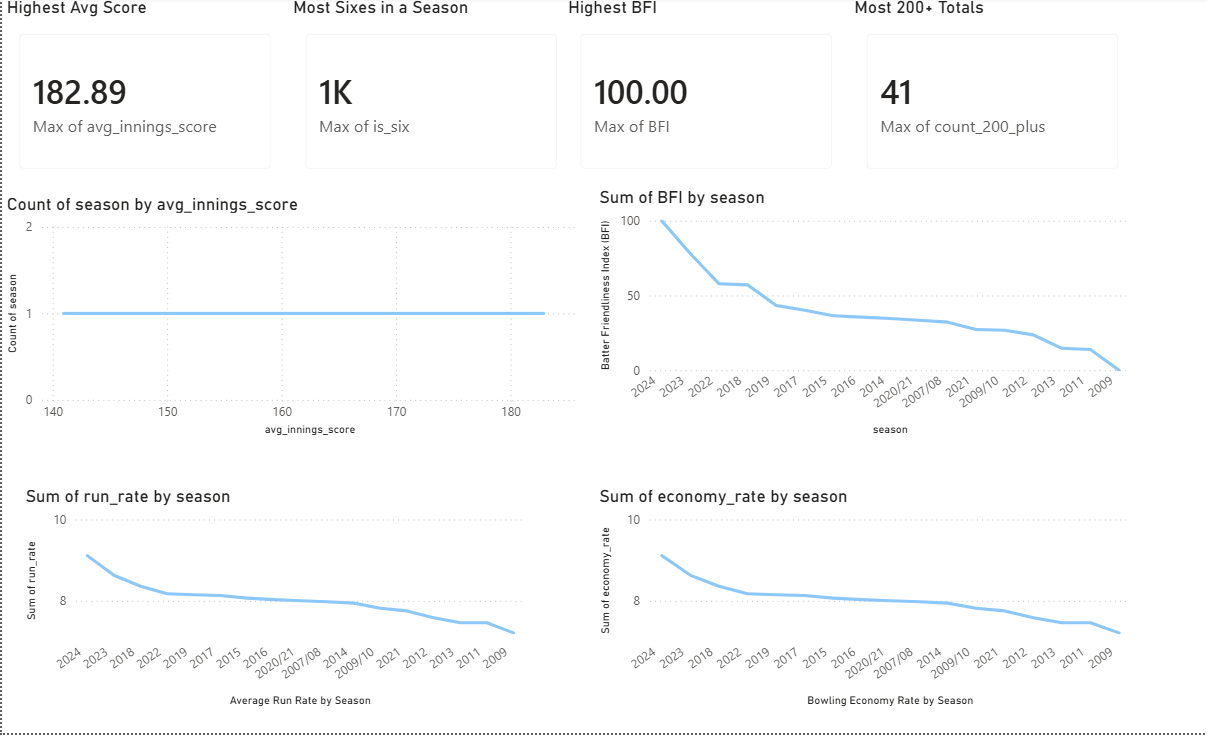

This screenshot's page, from the dashboard's own definition file:
{"tool":"powerbi","page":{"name":"Page 1","canvas":[1280,720],"ordinal":0},"visuals":[{"type":"lineChart","fields":{"Category":["bfi_final.season"],"Y":["Sum(bfi_final.BFI)"]},"box":[579.6,185.9,481.8,248.2],"z":1},{"type":"lineChart","fields":{"Category":["avg_score_by_season.avg_innings_score"],"Y":["CountNonNull(avg_score_by_season.season)"]},"box":[0,192,568.6,242.1],"z":2},{"type":"cardVisual","title":"Highest Avg Score","fields":{"Data":["Max(avg_score_by_season.avg_innings_score)"]},"box":[0,0,280,185.9],"z":3},{"type":"cardVisual","title":"Most Sixes in a Season","fields":{"Data":["Max(boundary_stats.is_six)"]},"box":[280,0,280,185.9],"z":4},{"type":"cardVisual","title":"Highest BFI","fields":{"Data":["Max(bfi_final.BFI)"]},"box":[549.1,0,280,185.9],"z":5},{"type":"cardVisual","title":"Most 200+ Totals","fields":{"Data":["Max(scores_200.count_200_plus)"]},"box":[829.1,0,280,185.9],"z":6},{"type":"lineChart","fields":{"Category":["run_rate.season"],"Y":["Sum(run_rate.run_rate)"]},"box":[18.3,478.1,497.7,221.3],"z":7},{"type":"lineChart","fields":{"Category":["economy_by_season.season"],"Y":["Sum(economy_by_season.economy_rate)"]},"box":[579.6,478.1,519.7,221.3],"z":8}]}

Visuals, with their boxes on the page's 1280x720 design canvas (x1, y1, x2, y2). These are canvas units, not pixel positions in the 1207x737 screenshot, which may show the page scaled, cropped or inside an application window:
lineChart - bfi_final.season x Sum(bfi_final.BFI): <bbox>580, 186, 1061, 434</bbox>
lineChart - avg_score_by_season.avg_innings_score x CountNonNull(avg_score_by_season.season): <bbox>0, 192, 569, 434</bbox>
"Highest Avg Score" cardVisual: <bbox>0, 0, 280, 186</bbox>
"Most Sixes in a Season" cardVisual: <bbox>280, 0, 560, 186</bbox>
"Highest BFI" cardVisual: <bbox>549, 0, 829, 186</bbox>
"Most 200+ Totals" cardVisual: <bbox>829, 0, 1109, 186</bbox>
lineChart - run_rate.season x Sum(run_rate.run_rate): <bbox>18, 478, 516, 699</bbox>
lineChart - economy_by_season.season x Sum(economy_by_season.economy_rate): <bbox>580, 478, 1099, 699</bbox>
